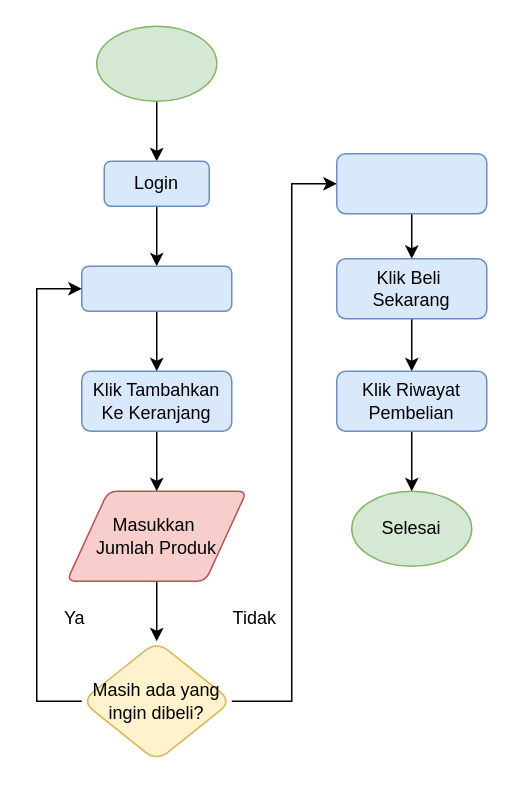
The diagram is 513 pixels wide and 788 high, and some of its shapes have lost their labels. The box of each missing label's shape, as (x1, y1, x2, y2) in pixels:
Klik Checkout Sekarang: (335, 152, 487, 214)
Mulai: (95, 25, 217, 101)
Pilih Produk: (80, 265, 232, 311)
